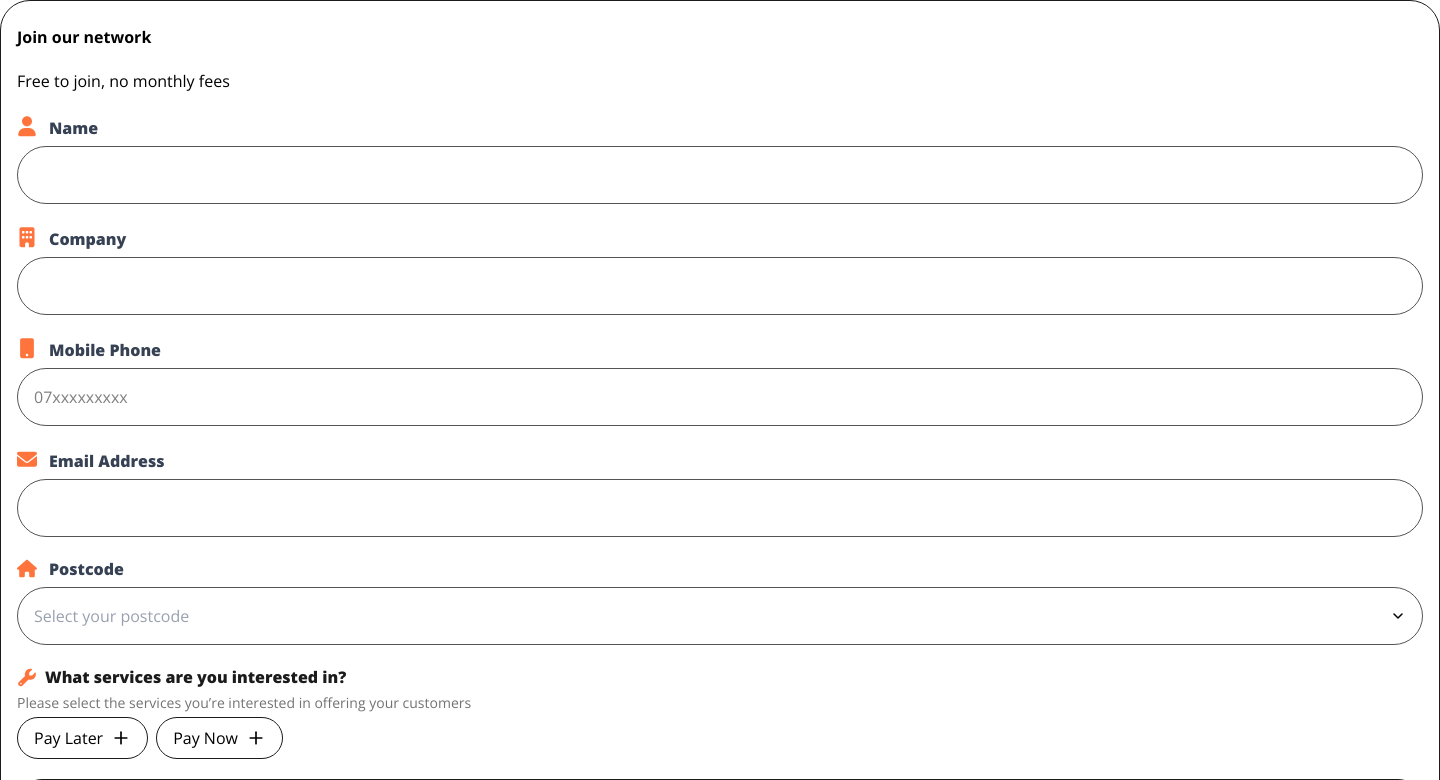
Test: RegisterForm validation tests › validates name format with alphanumeric characters only
Type "test@!" into the field labelled "Name" at (720, 175), box [17, 146, 1423, 204]
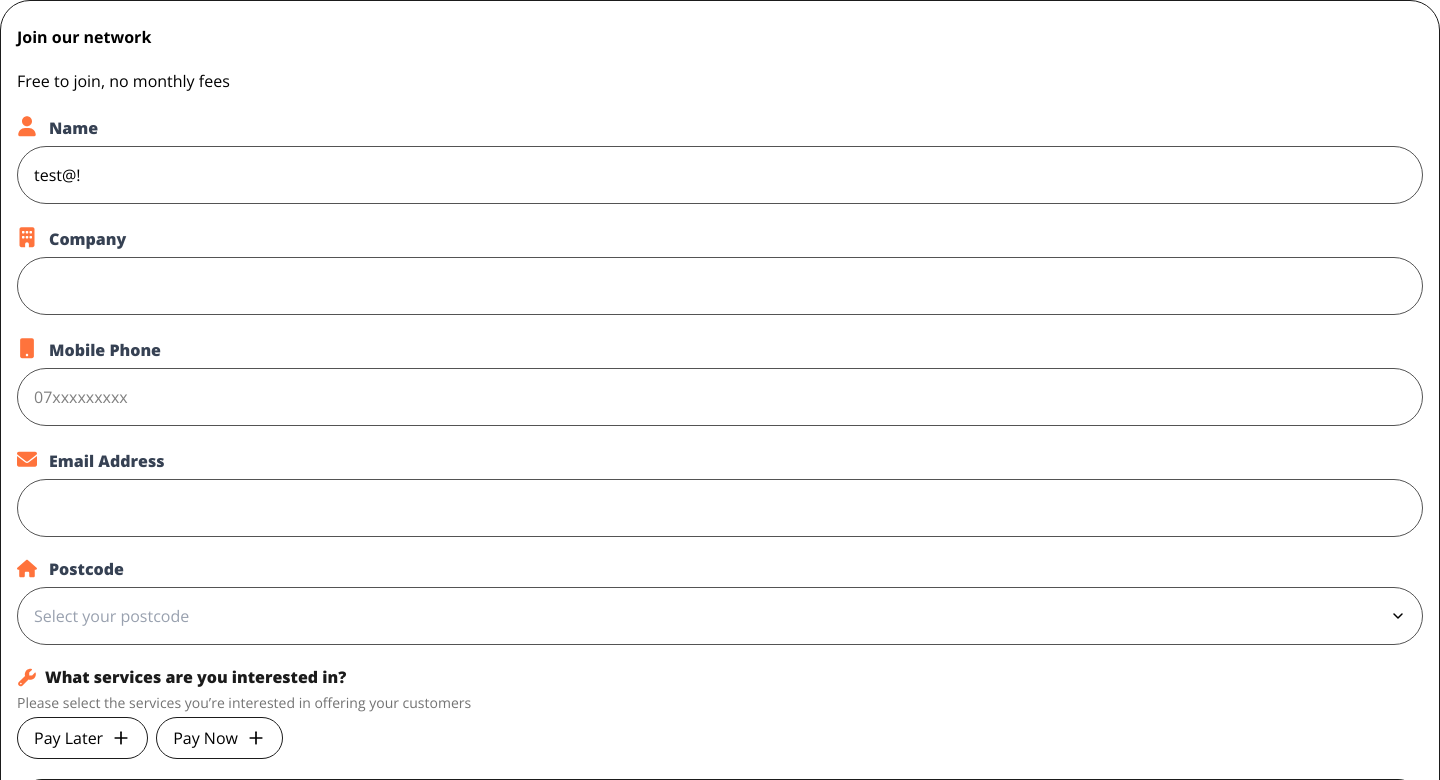
Leave the field labelled "Name", box [17, 146, 1423, 204]
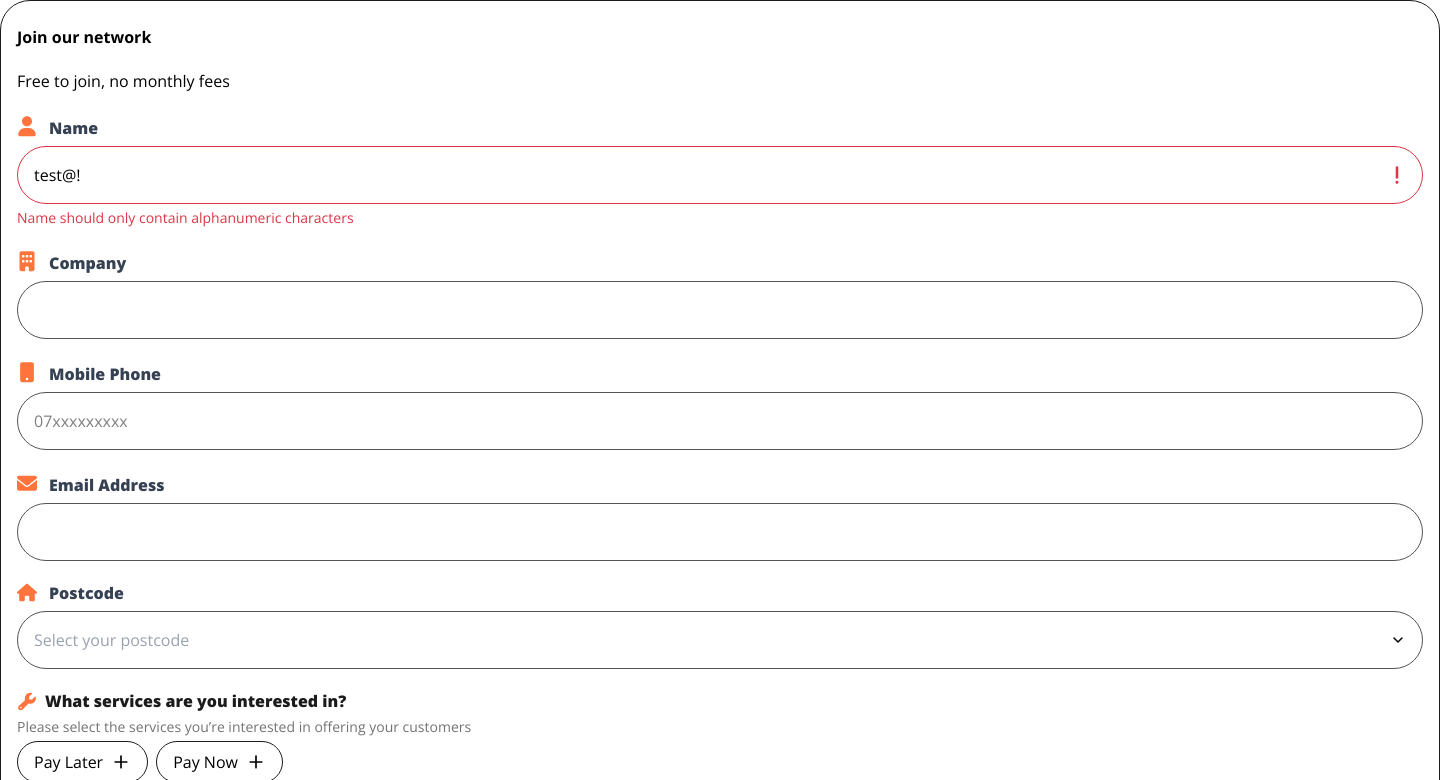
Check: the text "Name should only contain alphanumeric characters" is shown, box [17, 208, 354, 227]
